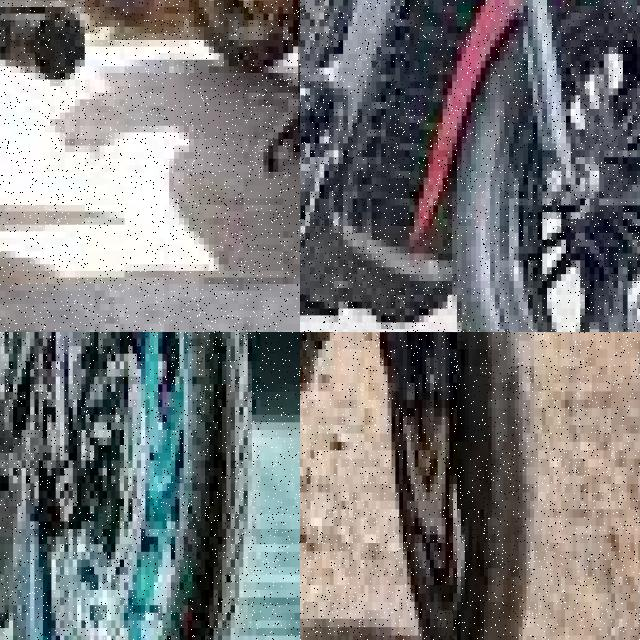bike: (300, 0, 640, 332), (0, 332, 277, 640), (300, 332, 553, 640), (0, 0, 85, 231), (218, 0, 300, 218)
